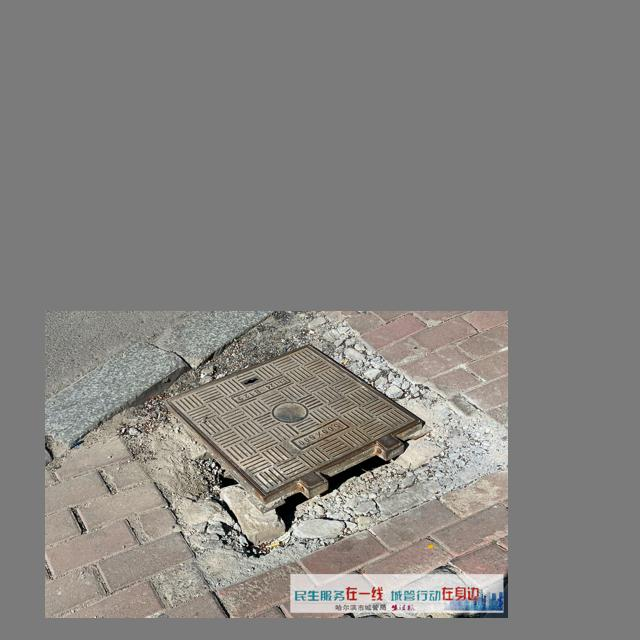circle: (117, 342, 483, 556)
